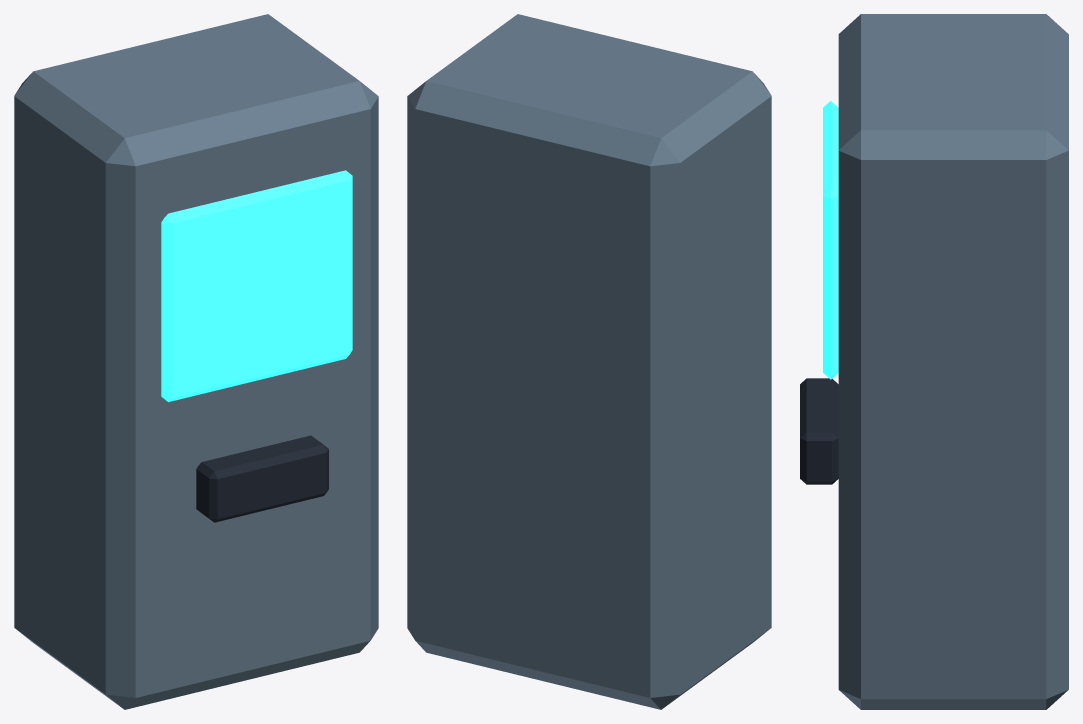
Rendered from SM_ENV_Street_002_Terminal.glb.
3 renders of one model, left to right at view 1: azimuth 30°, elevation 25°; view 2: azimuth 150°, elevation 25°; view 3: azimuth 270°, elevation 25°, orthographic.
Visible parts, largest first — view 1: SM_ENV_Street_002_Terminal; view 2: SM_ENV_Street_002_Terminal; view 3: SM_ENV_Street_002_Terminal.
Boxes of the visible parts, x1,y1,x2,y2 form: SM_ENV_Street_002_Terminal: (14, 14, 378, 709); SM_ENV_Street_002_Terminal: (407, 14, 771, 709); SM_ENV_Street_002_Terminal: (800, 14, 1068, 709).
Bounding box in the file's own units: 0.5 × 1 × 0.42.
